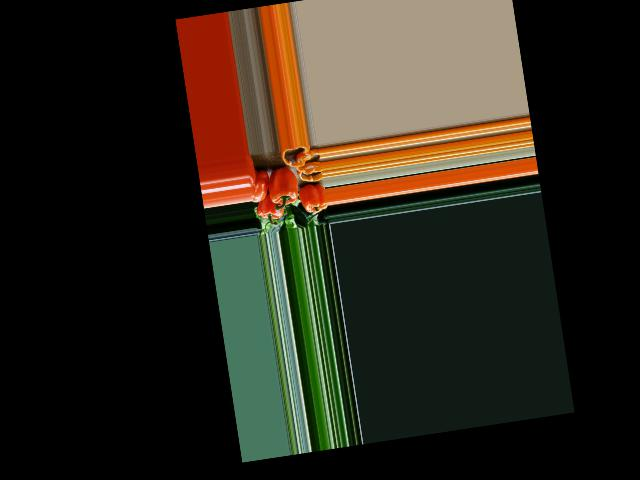bell_pepper: (247, 166, 272, 204)
